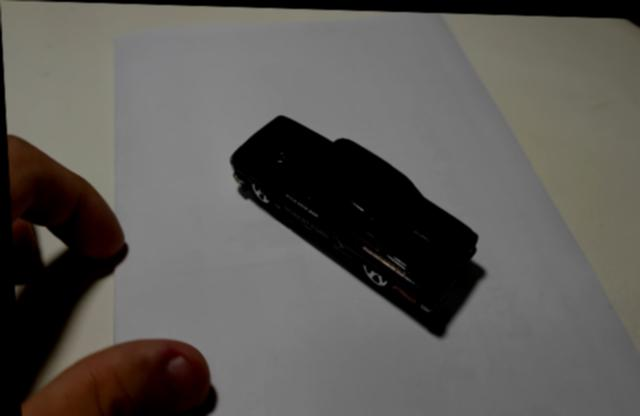01_FORD: (228, 114, 484, 337)
